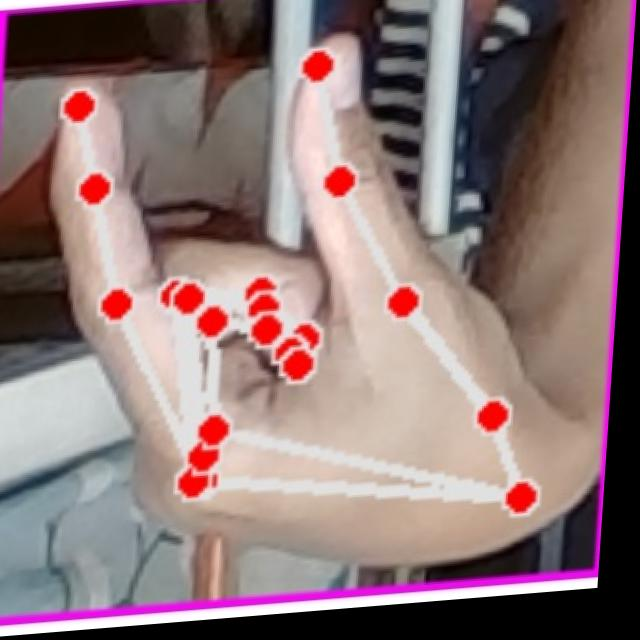Q: (26, 9, 612, 606)
